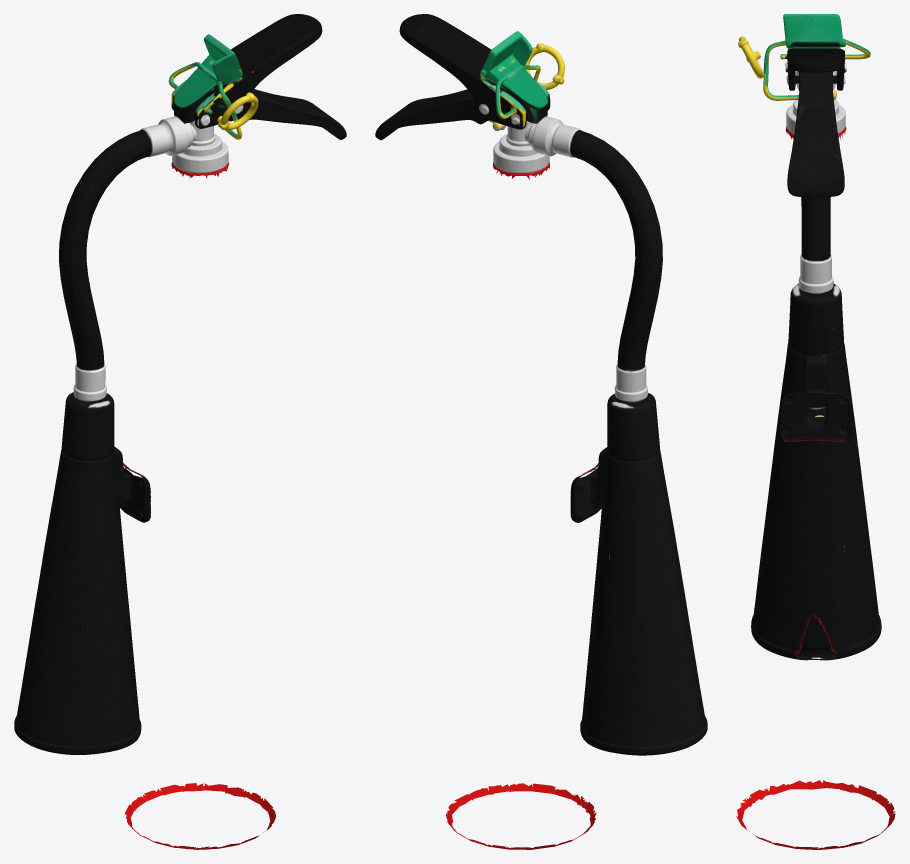
File: insp_co2.glb
3 renders of one model, left to right at view 1: azimuth 30°, elevation 25°; view 2: azimuth 150°, elevation 25°; view 3: azimuth 270°, elevation 25°, orthographic. The views are drawn at different scales.
Size of the model in its own units: 0.7972 by 1.89 by 0.3341.
1 material, 1 textured.
